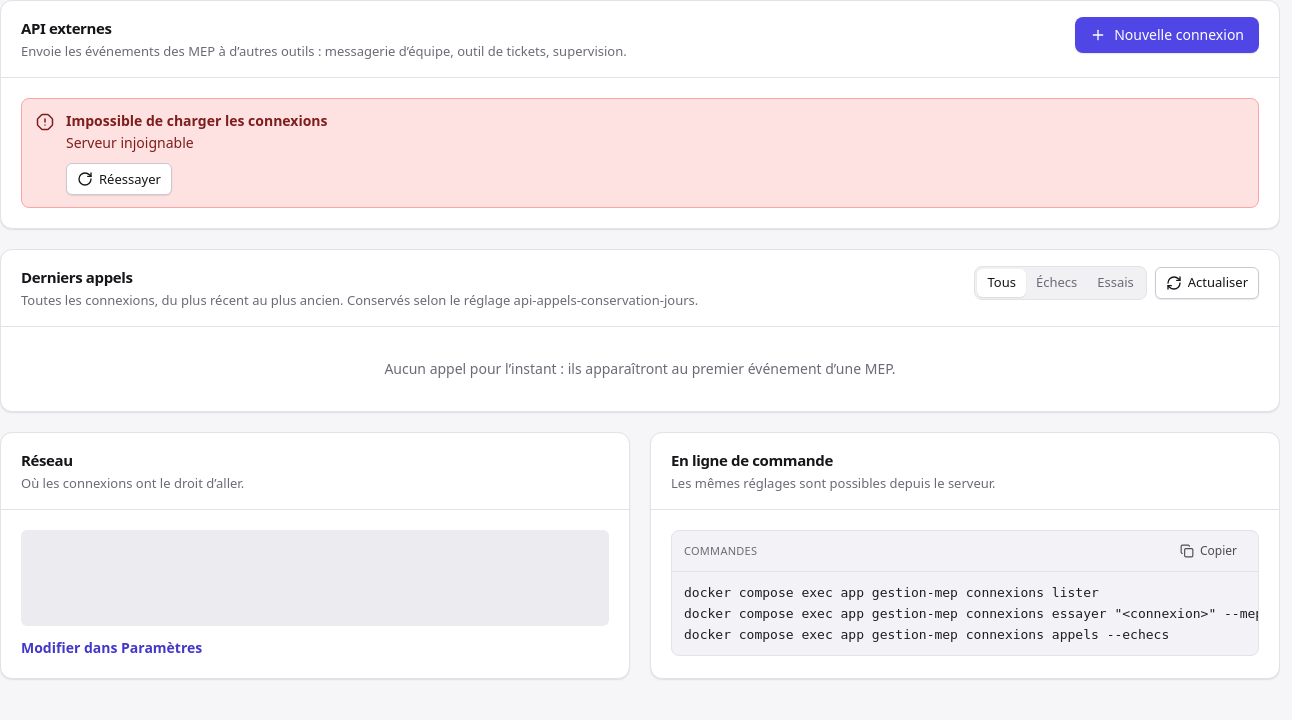
Onglet API externes › liste en erreur : carte d’erreur avec « Réessayer »
The width and height of the screenshot is (1292, 720).
Expected: the text "Impossible de charger les connexions" is shown, [66,111,328,130]
Click the button "Réessayer".
click(119, 179)  # box [66,163,172,195]
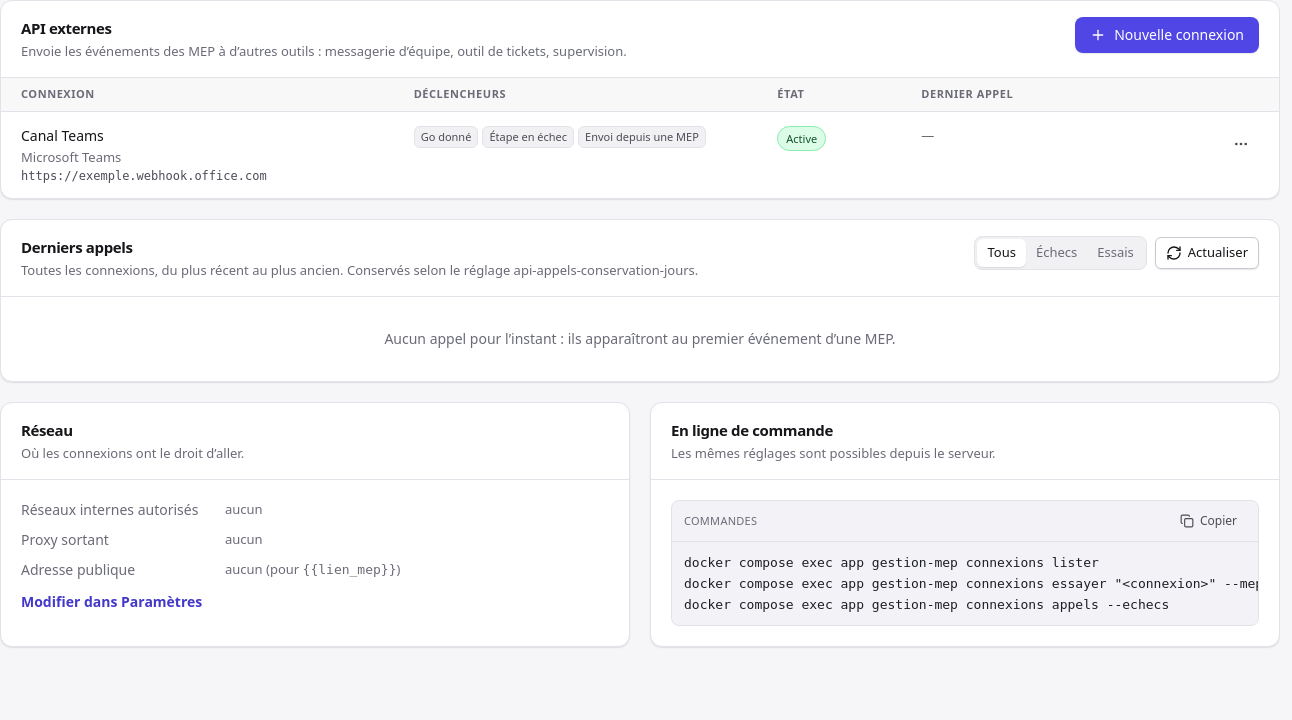
Expected: the link "Canal Teams" is shown, [21,126,104,144]
